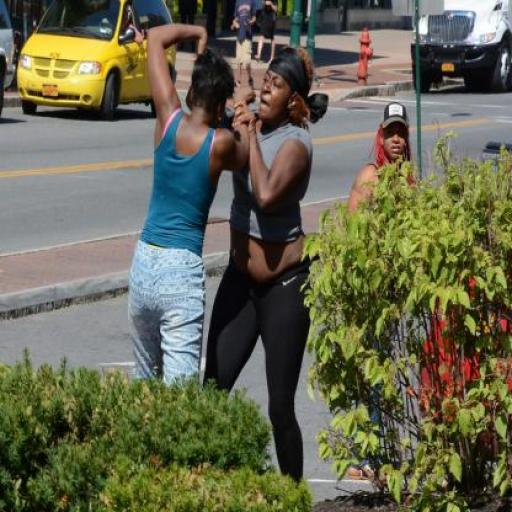Fighting: (129, 22, 329, 512)
